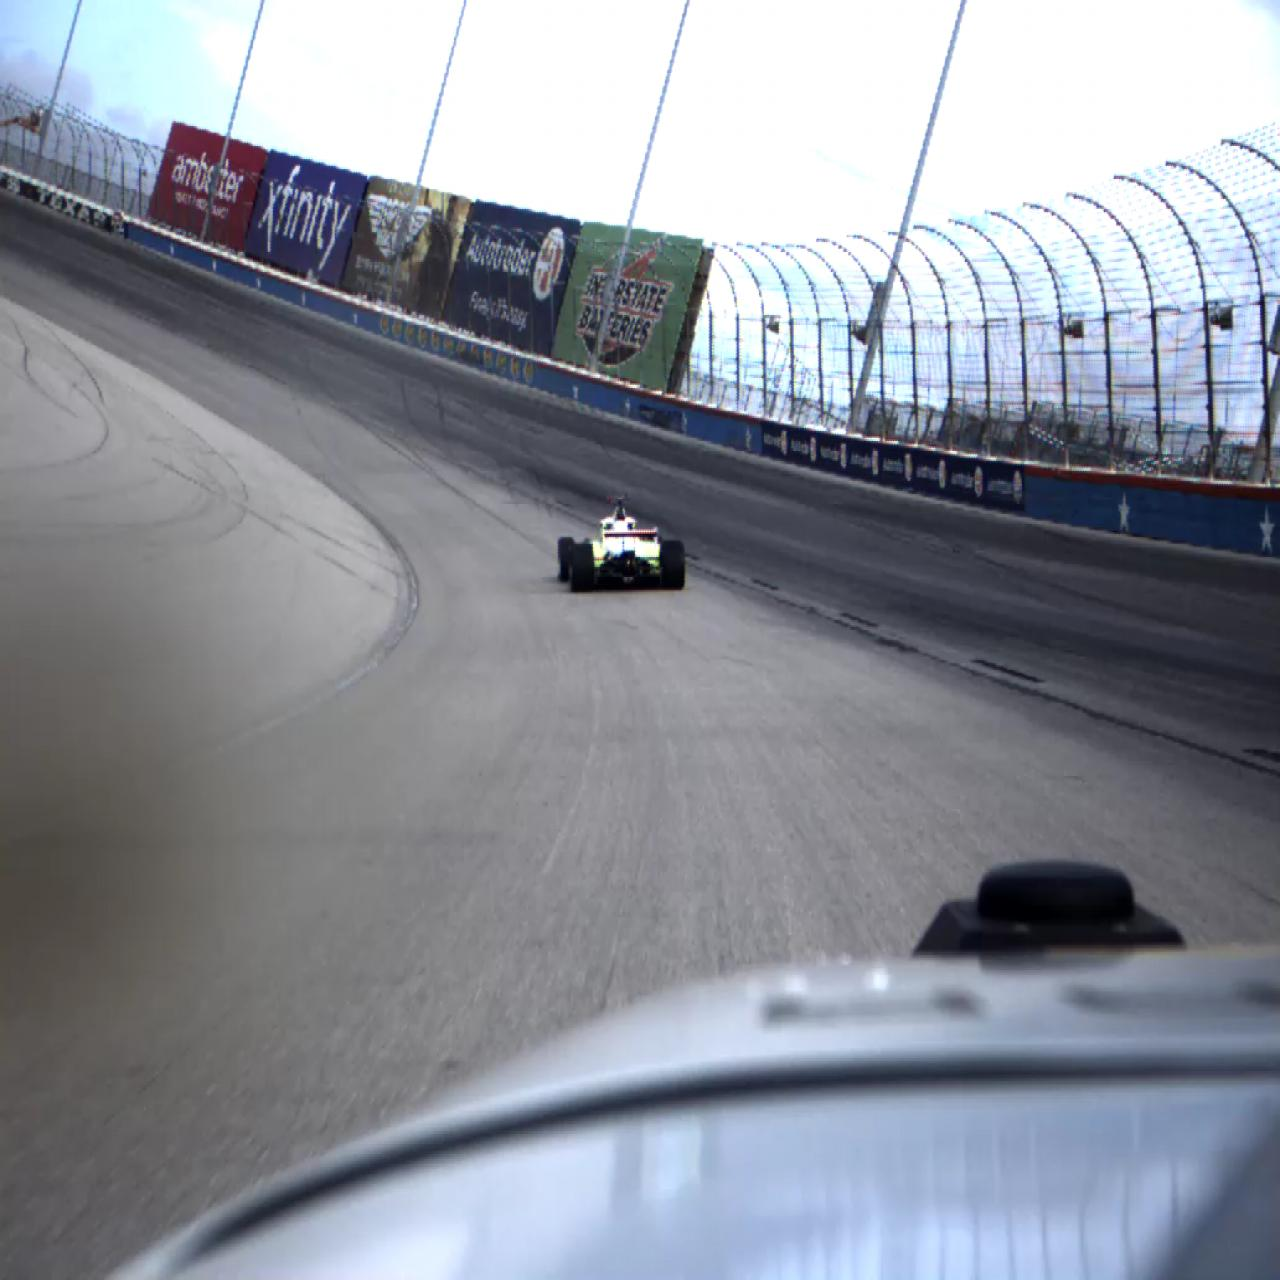AV: (558, 493, 686, 593)
Wheel: (570, 544, 595, 592), (663, 540, 685, 590), (558, 537, 574, 584)
